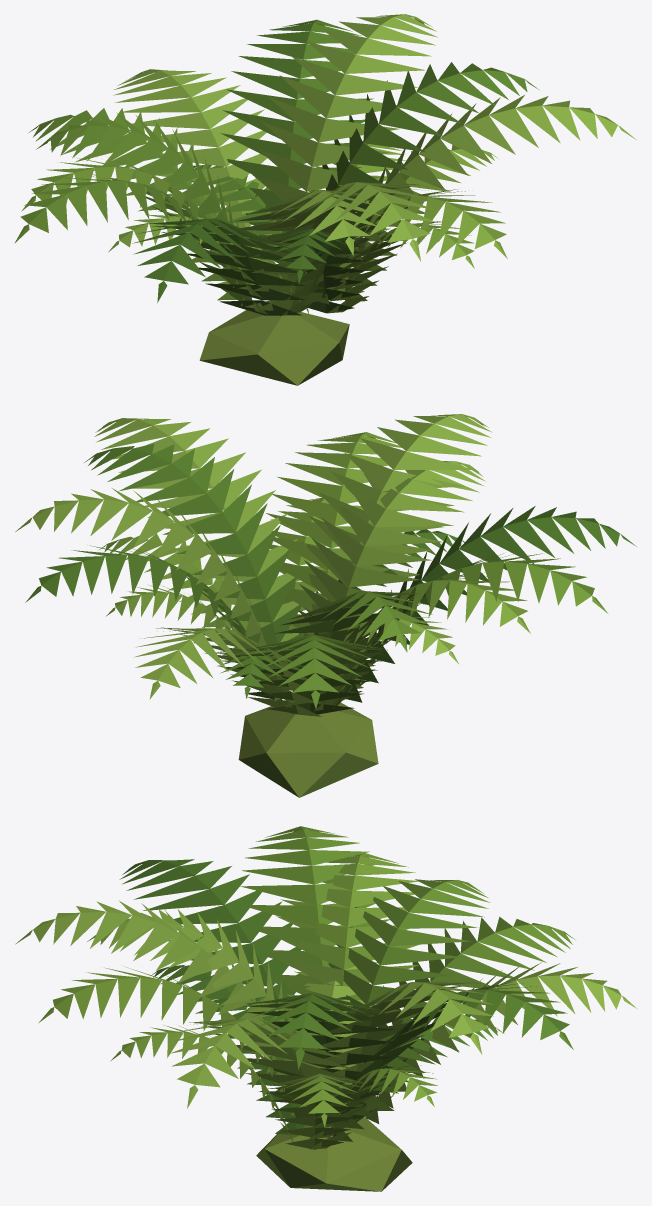
File: wf_fern.glb
3 views of the same model, one above another, from view 1: azimuth 30°, elevation 25°; view 2: azimuth 150°, elevation 25°; view 3: azimuth 270°, elevation 25° (orthographic).
Visible parts, largest first — view 1: wf_fern; view 2: wf_fern; view 3: wf_fern.
Part boxes in pixels (<box>): wf_fern: <box>14,14,636,385</box>; wf_fern: <box>15,414,636,797</box>; wf_fern: <box>15,826,636,1191</box>.
Bounding box in the file's own units: 1.63 × 0.7253 × 1.55.
